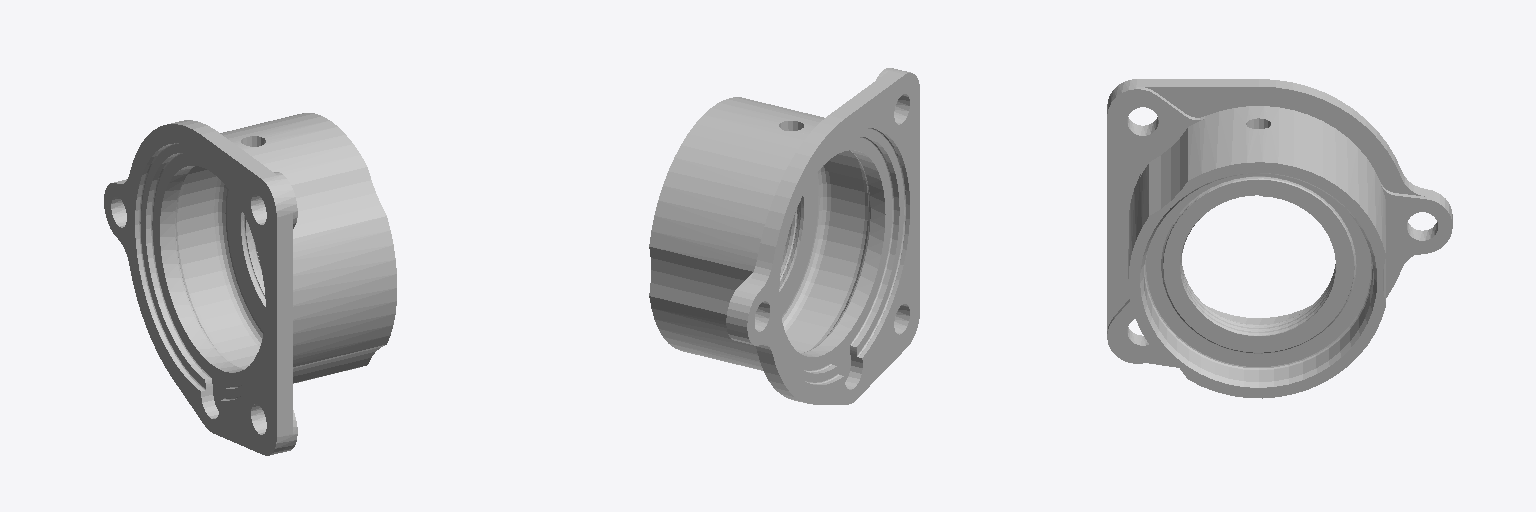
The model's file is 72. Крышка подшипника.obj.
The picture shows the model from 3 angles: view 1: azimuth 30°, elevation 25°; view 2: azimuth 150°, elevation 25°; view 3: azimuth 270°, elevation 25°; orthographic projection.
Parts seen in each view (by area): view 1: Твердое тело1; view 2: Твердое тело1; view 3: Твердое тело1.
Part boxes in pixels (left/top/right/bottom): Твердое тело1: left=104, top=113, right=396, bottom=455; Твердое тело1: left=649, top=68, right=919, bottom=404; Твердое тело1: left=1107, top=79, right=1452, bottom=398.
Bounding box in the file's own units: 50 × 106 × 114.